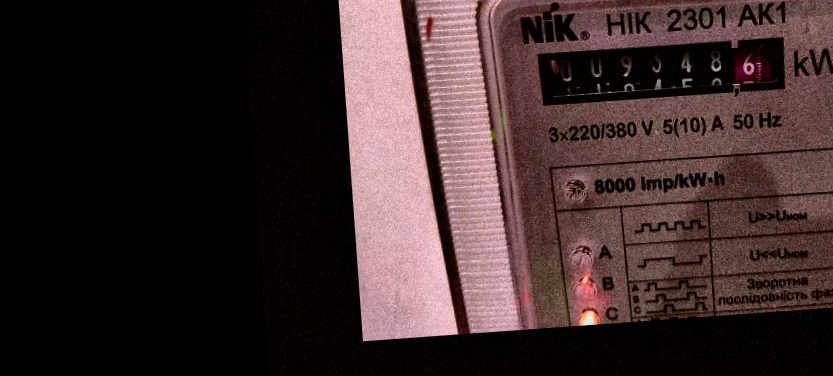0: (558, 56, 575, 83), (588, 51, 604, 78)
3: (649, 48, 665, 74)
4: (676, 43, 696, 75)
6: (739, 47, 758, 77)
8: (708, 44, 725, 73)
9: (619, 52, 635, 80)
screen: (519, 20, 802, 118)
